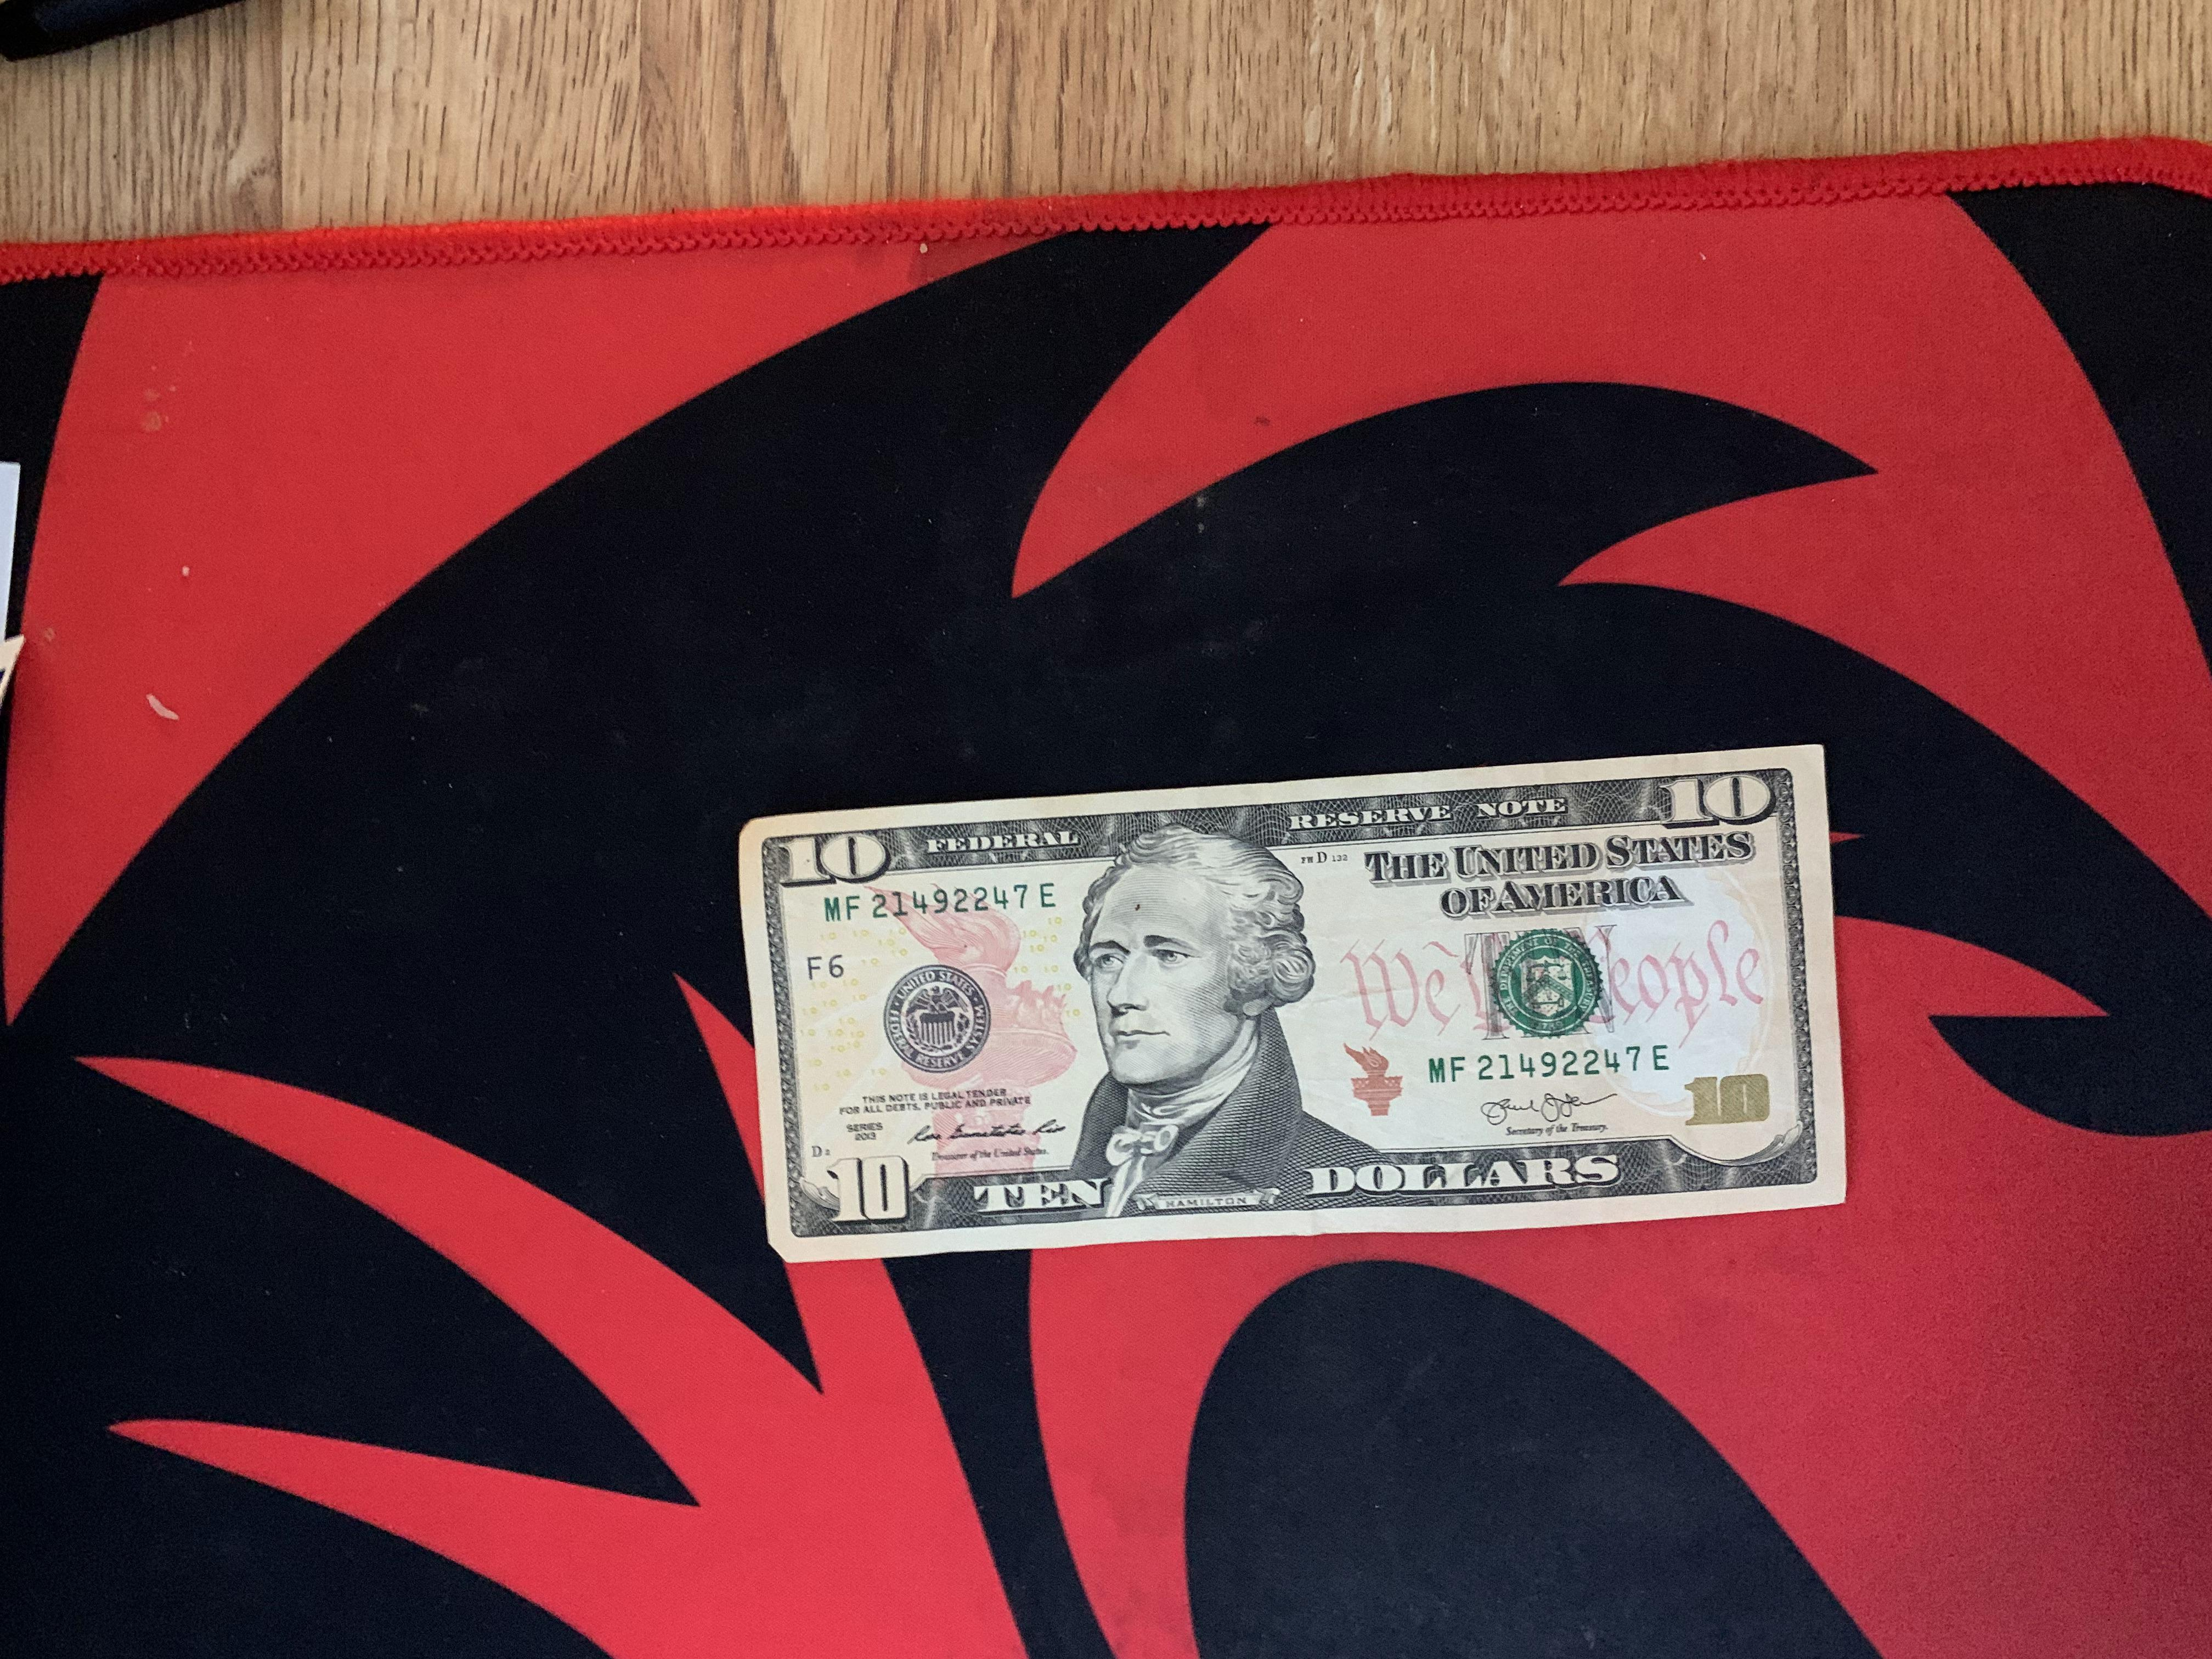TenBill: (730, 741, 1834, 1267)
